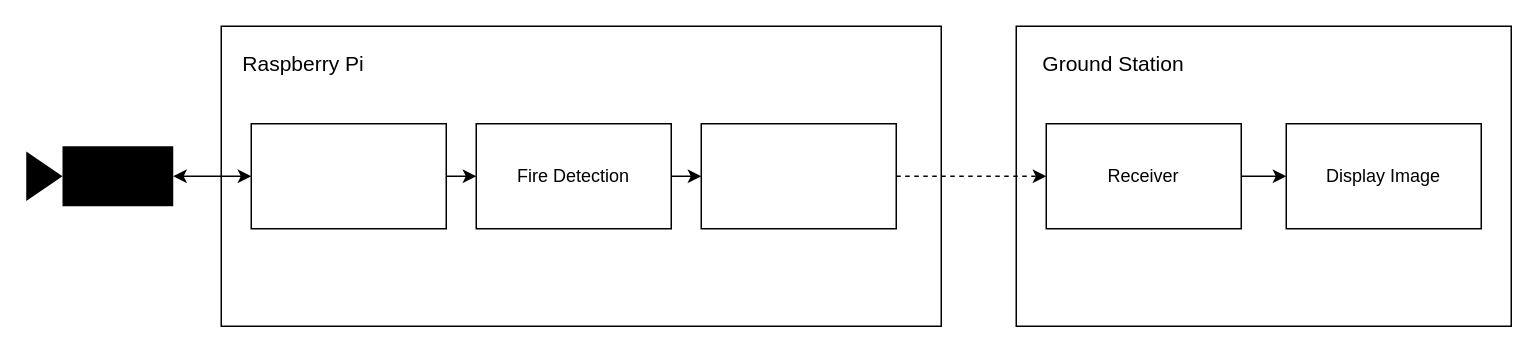
Some shapes in this 1538 by 353 pixel diagram are drawn without their labels. Each missing label, with the centre of its shape:
Take Image: (348,175)
Transmit: (798,175)
